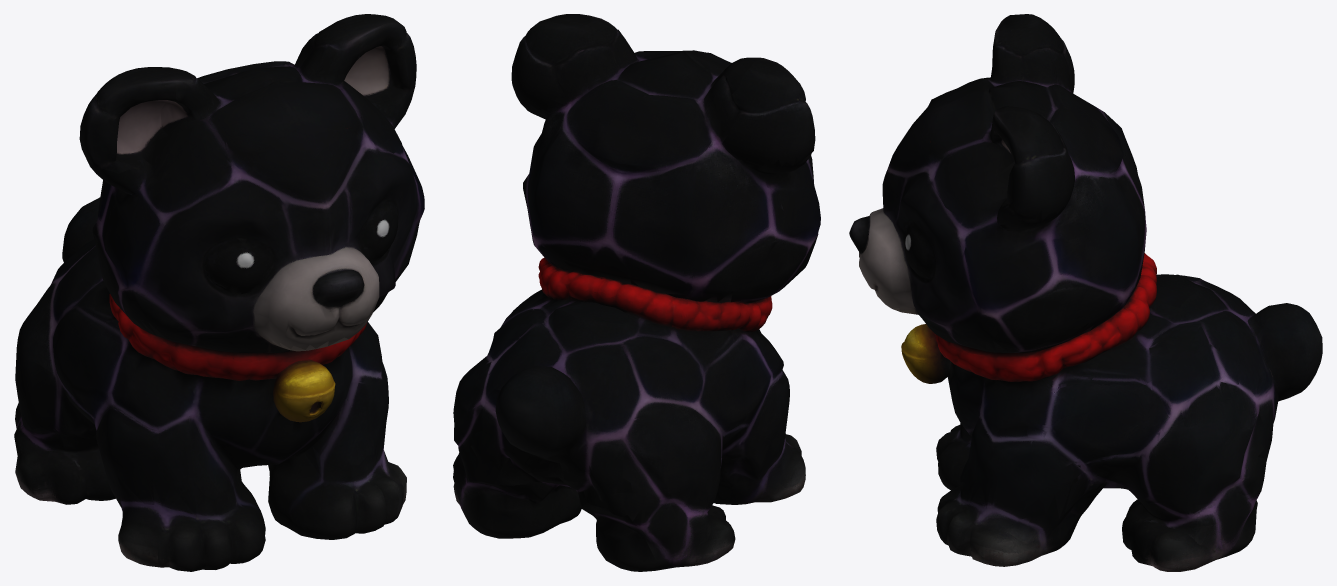
Rendered from obby_rig.glb.
3 renders of one model, left to right at view 1: azimuth 30°, elevation 25°; view 2: azimuth 150°, elevation 25°; view 3: azimuth 270°, elevation 25°, orthographic. The views are drawn at different scales.
Parts seen in each view (by area): view 1: Head, Body, LegFR, LegFL, EarR, LegBR, EarL, Tail; view 2: Head, Body, Tail, LegBR, EarR, LegBL, EarL, LegFR; view 3: Body, Head, LegBL, LegFL, EarL, Tail, LegFR, EarR.
Part boxes in pixels (x1,y1,x2,y2): Head: (88,21,424,349); Body: (15,127,394,516); LegFR: (103,464,265,571); LegFL: (268,427,406,539); EarR: (79,67,195,185); LegBR: (14,403,115,504); EarL: (337,14,416,137); Tail: (62,197,100,262); Head: (518,18,820,329); Body: (453,77,797,522); Tail: (470,366,632,494); LegBR: (567,459,735,571); EarR: (721,58,815,166); LegBL: (453,455,581,538); EarL: (511,14,600,115); LegFR: (714,434,805,504); Body: (893,46,1267,518); Head: (849,28,1203,351); LegBL: (1081,485,1261,571); LegFL: (936,479,1091,566); EarL: (954,111,1079,221); Tail: (1257,303,1322,460); LegFR: (936,423,971,489); EarR: (996,14,1074,93).
Size of the model in its own units: 0.7178 by 1 by 0.9716.
Materials: 1 (1 with a texture image).
